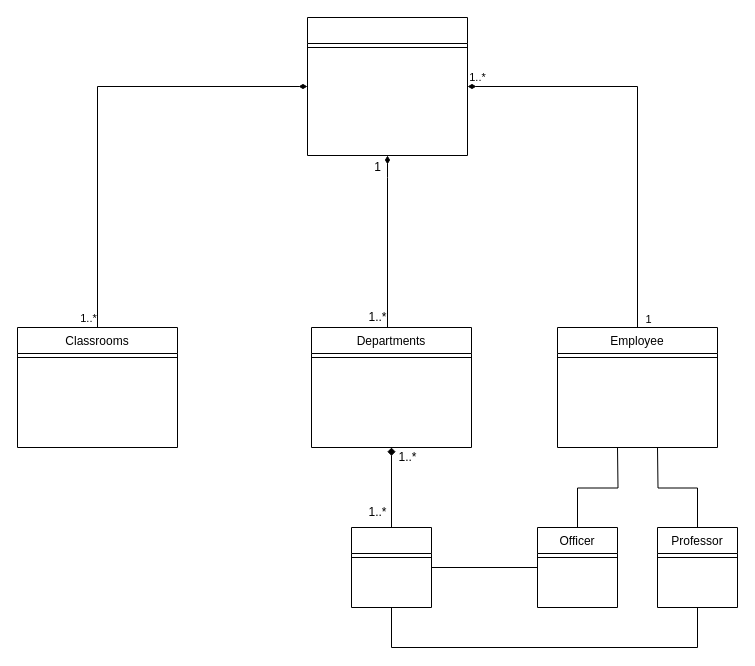
Some shapes in this 755 by 666 pixel diagram are drawn without their labels. The shapes that lost their labels are listed below. From the top down, each one's centre as x and y in pixels, then its label:
the point at 387,86: Univercity
the point at 391,567: Work Office
